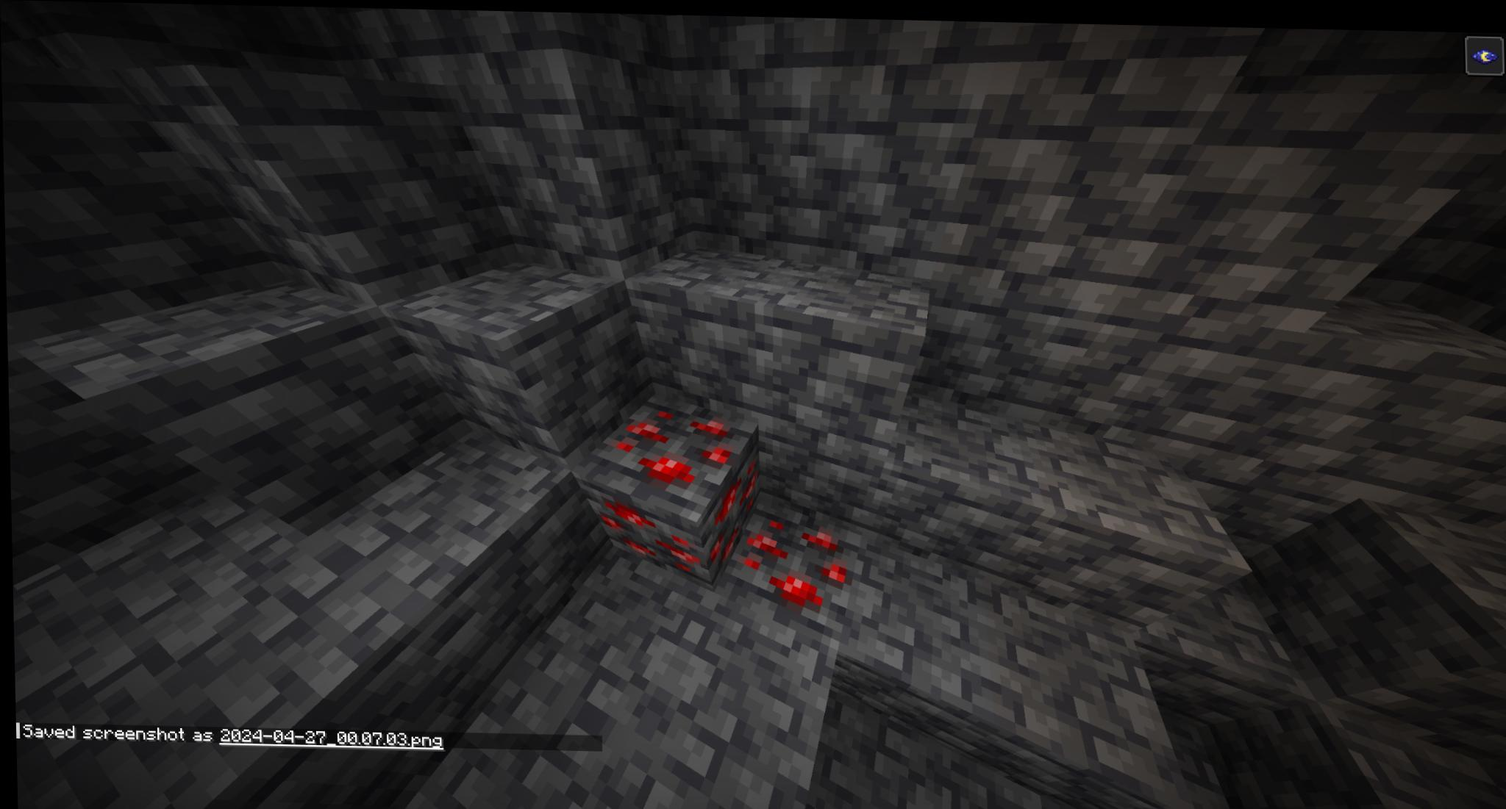redstone ore: (606, 401, 733, 492), (736, 516, 842, 599), (591, 496, 696, 563), (711, 452, 762, 567)
